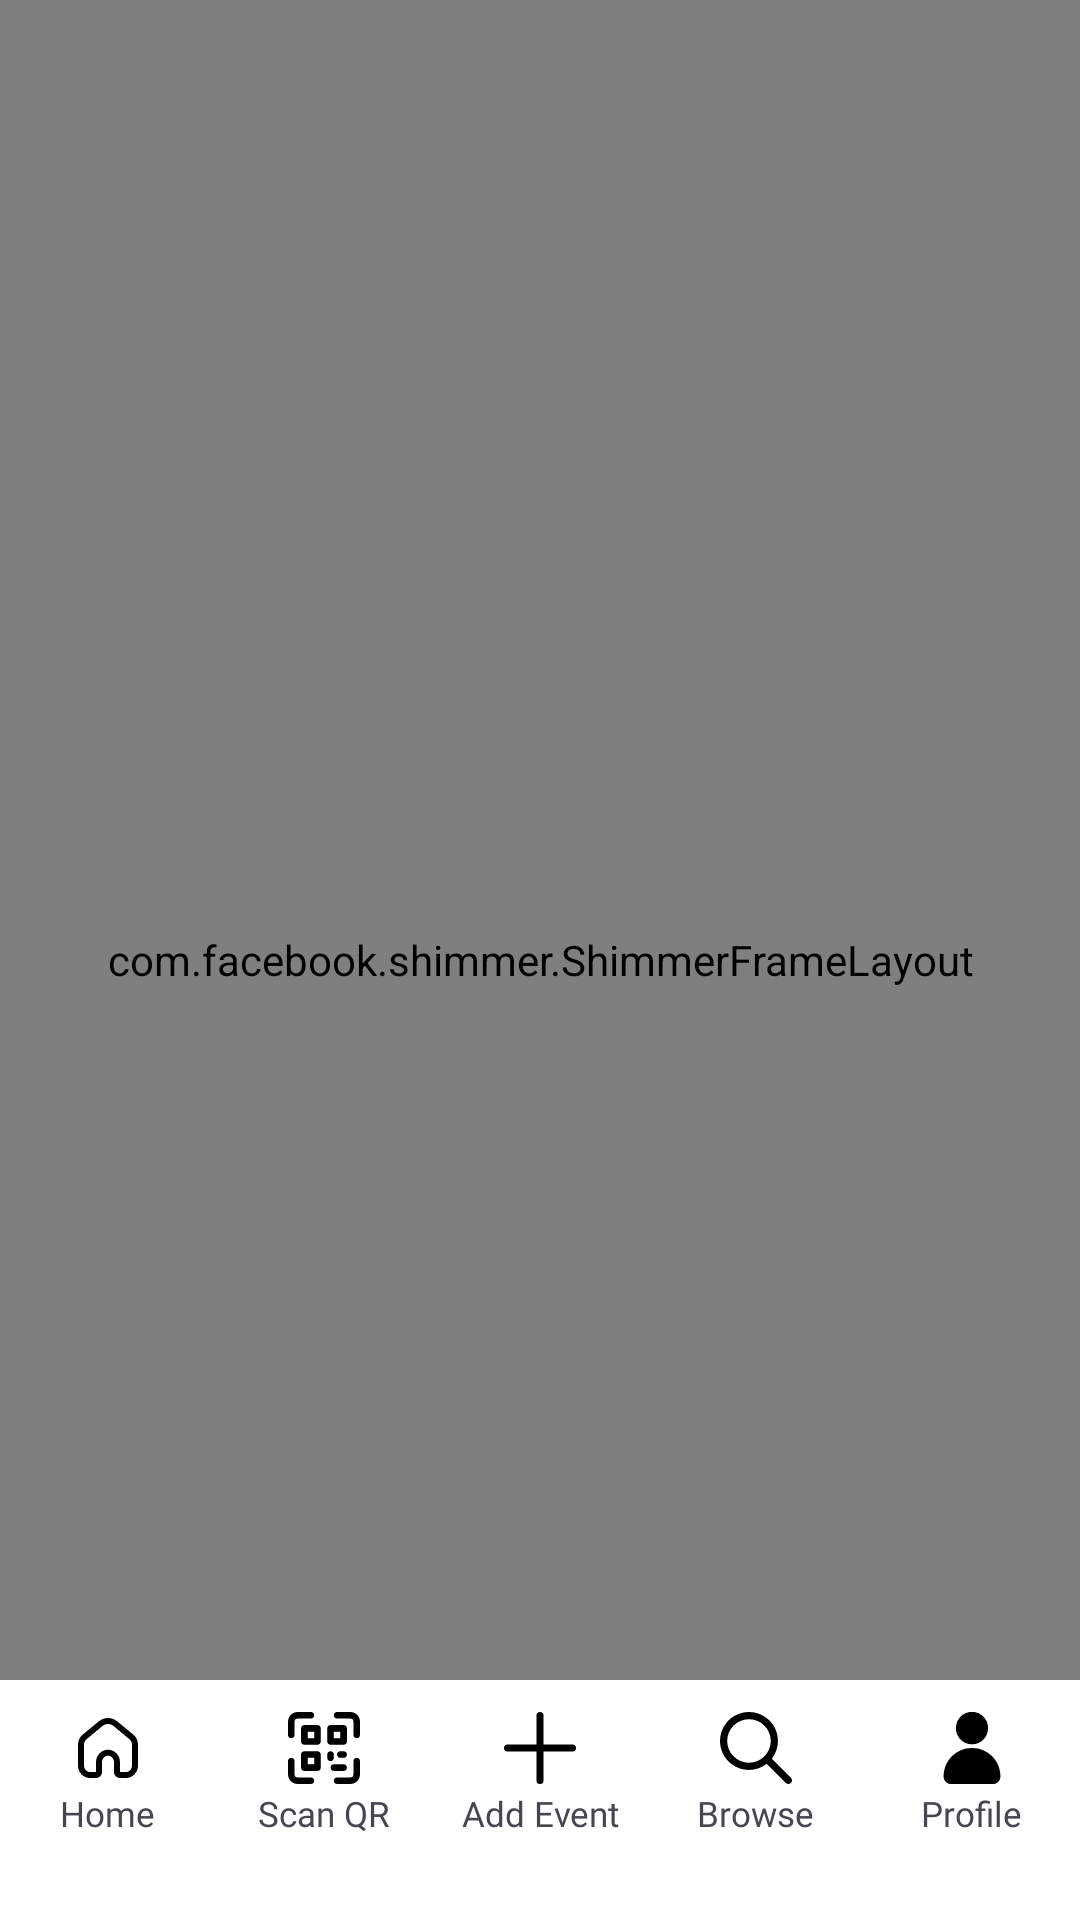

Named icons in this screenshot (1080x1920) and their centers, (x=x, y=y):
search: (x=756, y=1748)
